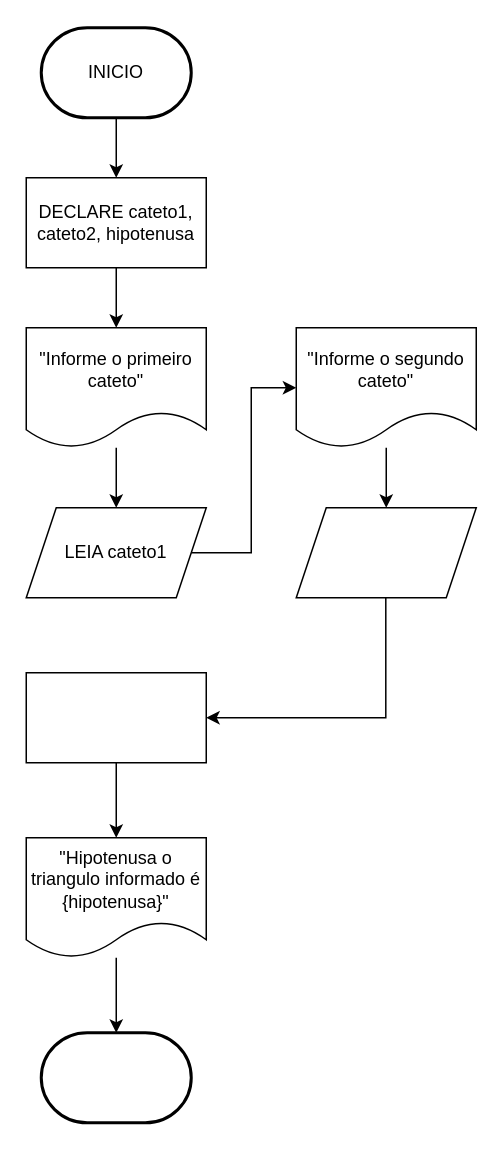
Image size: 503x1149. Some labels were removed from this diagram. The centre of each missing label's shape, as x and y in pixels:
FIM: pixel 115 1077
hipotenusa = raiz de (cateto1 ^ 2 + cateto2 ^ 2): pixel 115 717
LEIA cateto2: pixel 385 552
